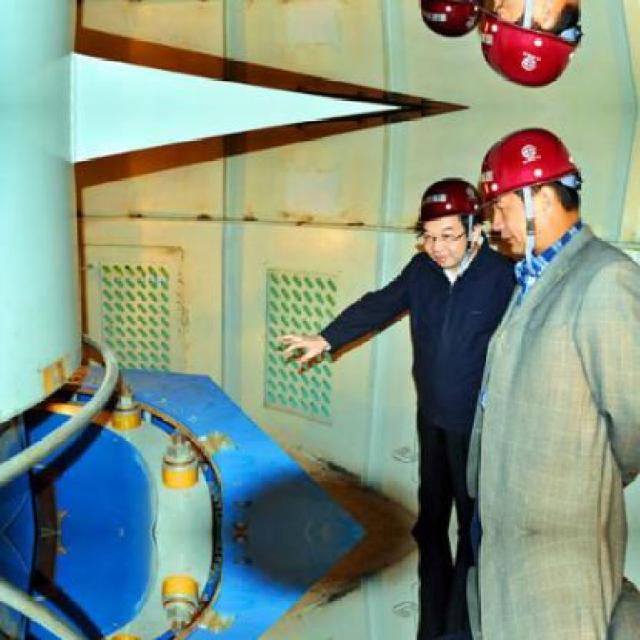helmet: (483, 124, 585, 248), (483, 0, 586, 89), (414, 174, 484, 266), (413, 0, 486, 38)
